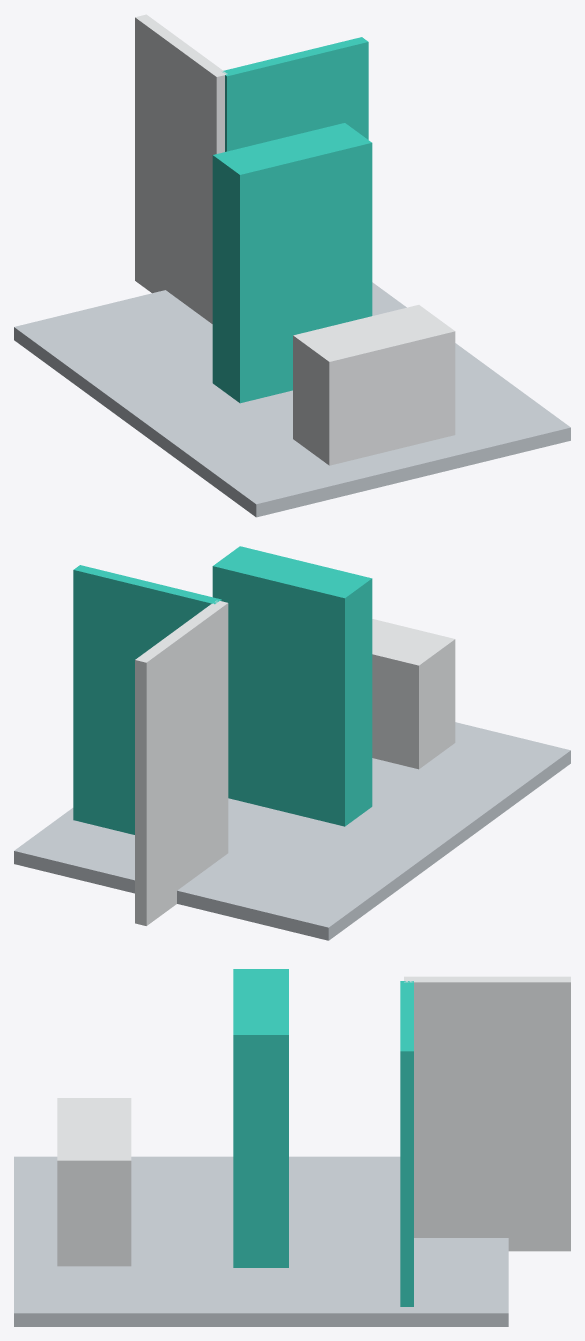
3 renders of one model, top to bottom at view 1: azimuth 30°, elevation 25°; view 2: azimuth 150°, elevation 25°; view 3: azimuth 270°, elevation 25°, orthographic. The views are drawn at different scales.
Parts seen in each view (by area): view 1: Exhibition Booth Concept; view 2: Exhibition Booth Concept; view 3: Exhibition Booth Concept.
Boxes of the visible parts, <box> form: Exhibition Booth Concept: <box>14,14,570,517</box>; Exhibition Booth Concept: <box>14,546,570,940</box>; Exhibition Booth Concept: <box>14,969,570,1326</box>.
Size of the model in its own units: 3 by 2.4 by 4.51.
